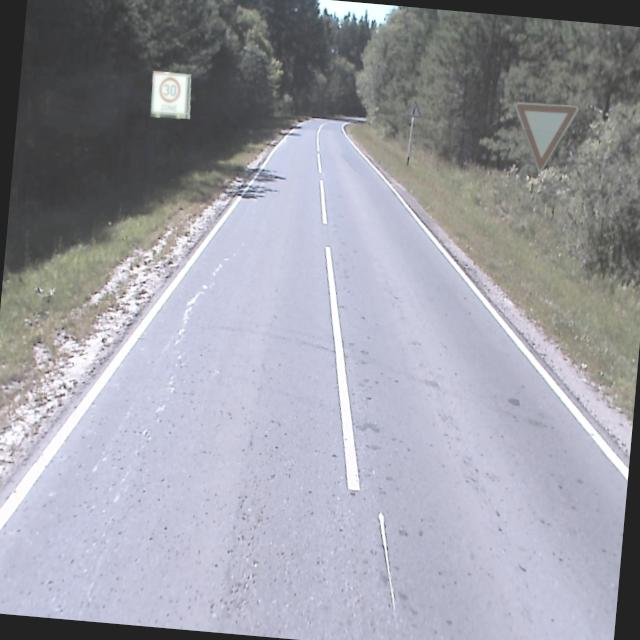road: (0, 116, 628, 640)
